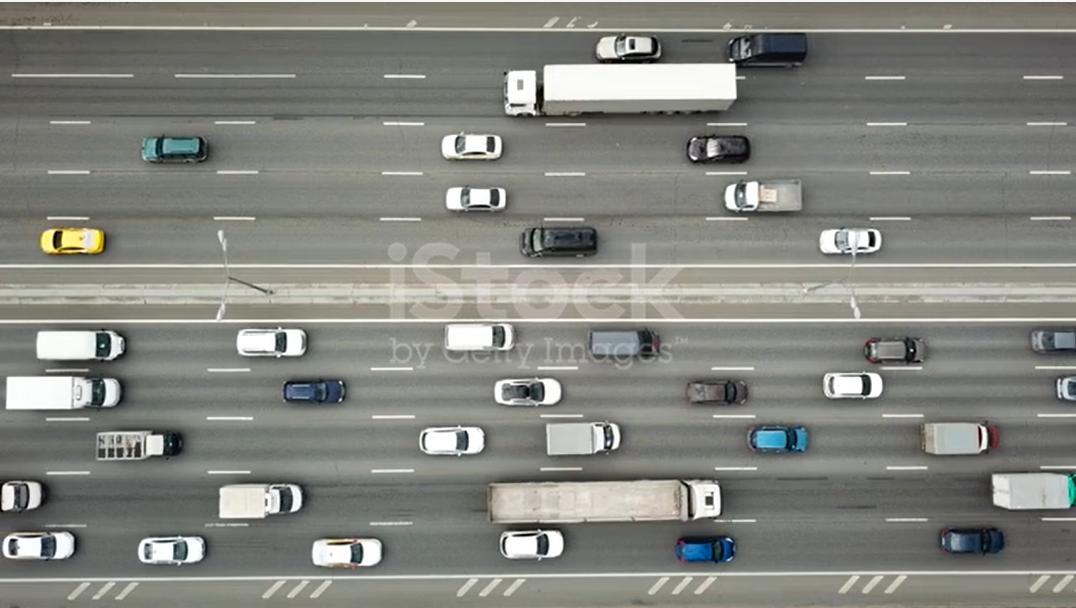car: (409, 407, 514, 471), (22, 320, 155, 368), (484, 363, 591, 421), (718, 24, 826, 77), (26, 217, 140, 267), (514, 219, 636, 265), (0, 514, 96, 571), (208, 477, 314, 525), (854, 317, 935, 378), (819, 362, 900, 422), (302, 524, 397, 575), (492, 517, 581, 570), (747, 410, 819, 472), (683, 365, 761, 419), (577, 322, 666, 367), (429, 178, 516, 222), (684, 127, 781, 166), (443, 318, 528, 361), (913, 522, 1017, 557), (673, 525, 749, 572), (277, 372, 362, 414), (135, 525, 217, 568), (222, 327, 343, 355), (428, 127, 508, 169), (134, 127, 211, 169), (590, 23, 666, 64), (814, 222, 882, 267)
truck: (489, 52, 742, 130), (471, 468, 737, 537), (529, 410, 644, 470), (712, 170, 808, 232), (2, 373, 143, 408), (983, 463, 1076, 512), (99, 422, 187, 472), (915, 414, 1001, 461), (0, 465, 61, 515)
